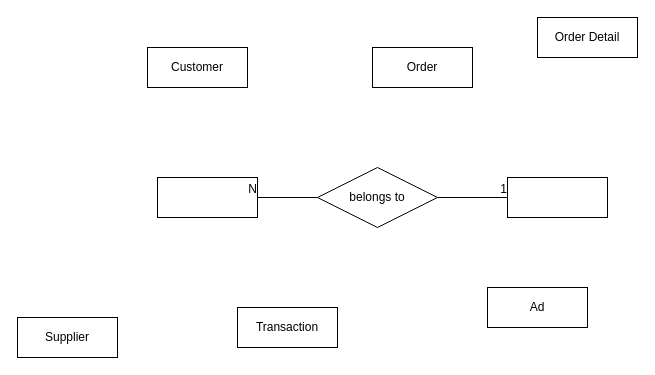
The diagram is 655 pixels wide and 375 high, and some of its shapes have lost their labels. The centre of each missing label's shape, as x and y in pixels:
"Category" goes at (x=557, y=197).
"Product" goes at (x=207, y=197).
